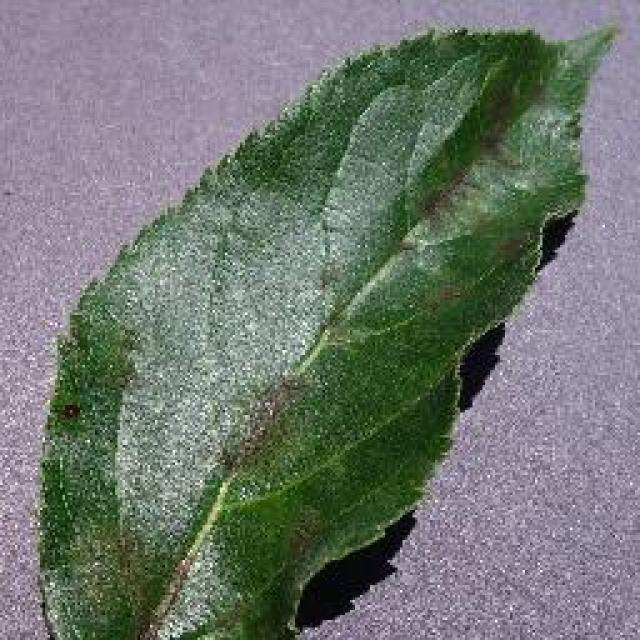apple scab disease: (32, 18, 620, 638)
